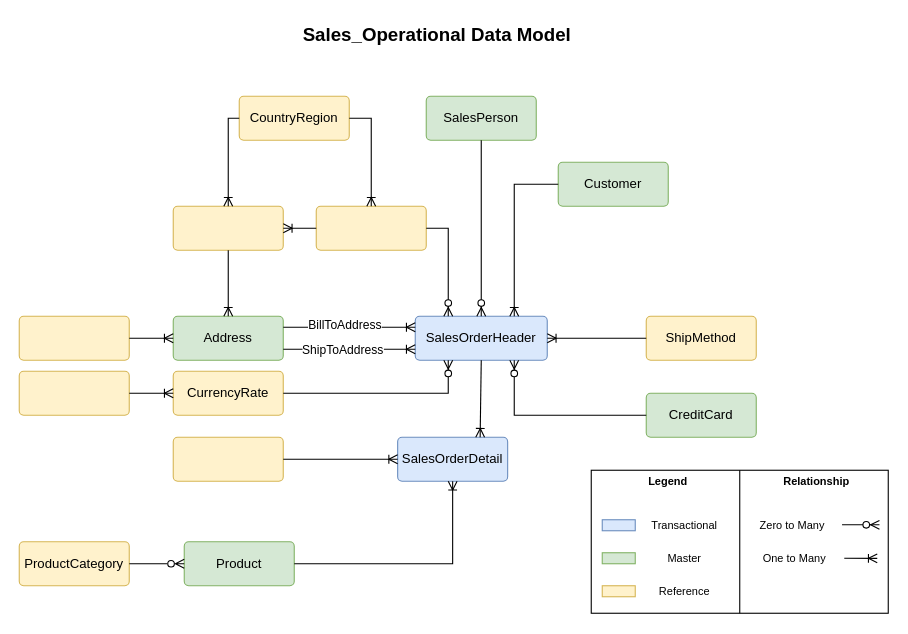
Image size: 908x634. Some labels were removed from this diagram. The shapes that lost their labels are listed below. From the top down, each one's centre as x and y in pixels, then its label:
[227,227]: StateProvince
[370,227]: SalesTerritory
[73,337]: AddressType
[73,392]: Currency
[227,458]: SpecialOffer
